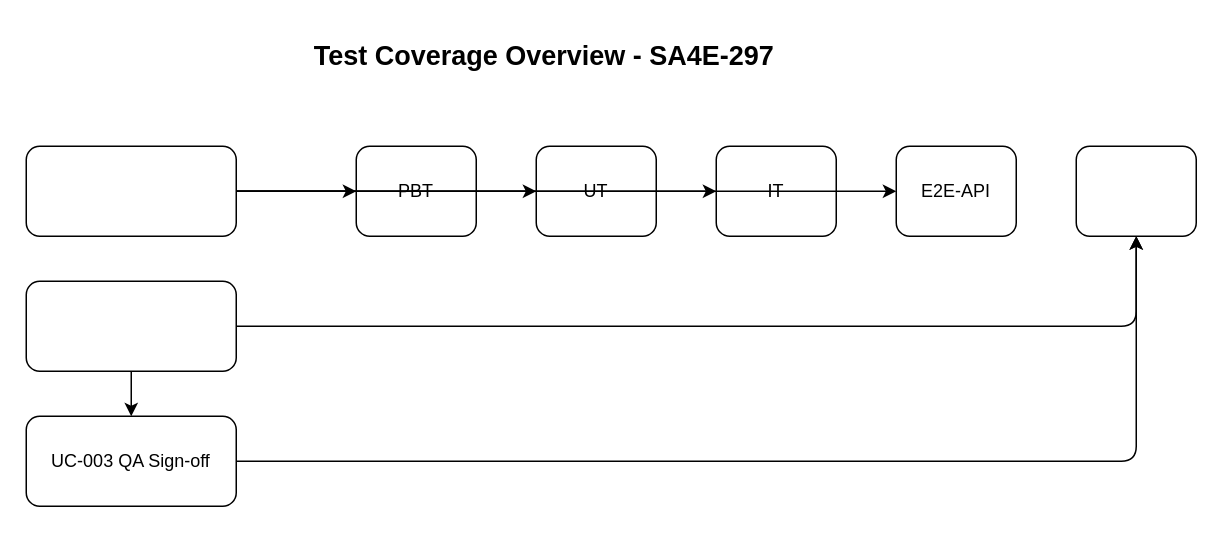
Some shapes in this 1223 by 533 pixel diagram are drawn without their labels. The shapes that lost their labels are listed below. From the top down, each one's box as (x1, y1, x2, y2) in pixels, then its label:
(25, 145, 236, 236): UC-001 Testing QA
(1075, 145, 1196, 236): SIT
(25, 280, 236, 371): UC-002 LangGraph Cleanup
